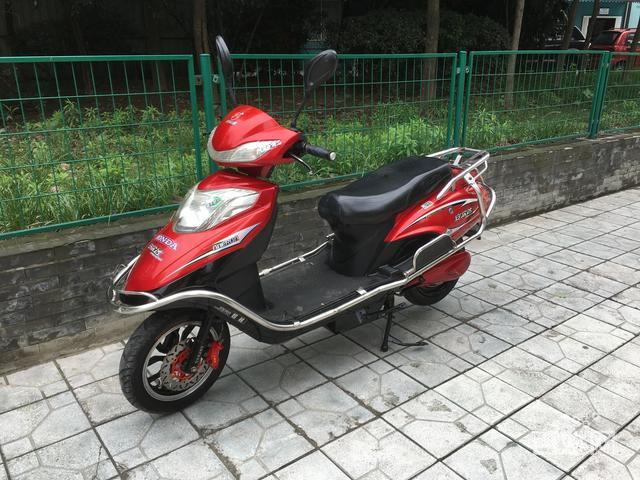电动车: (105, 26, 507, 417)
